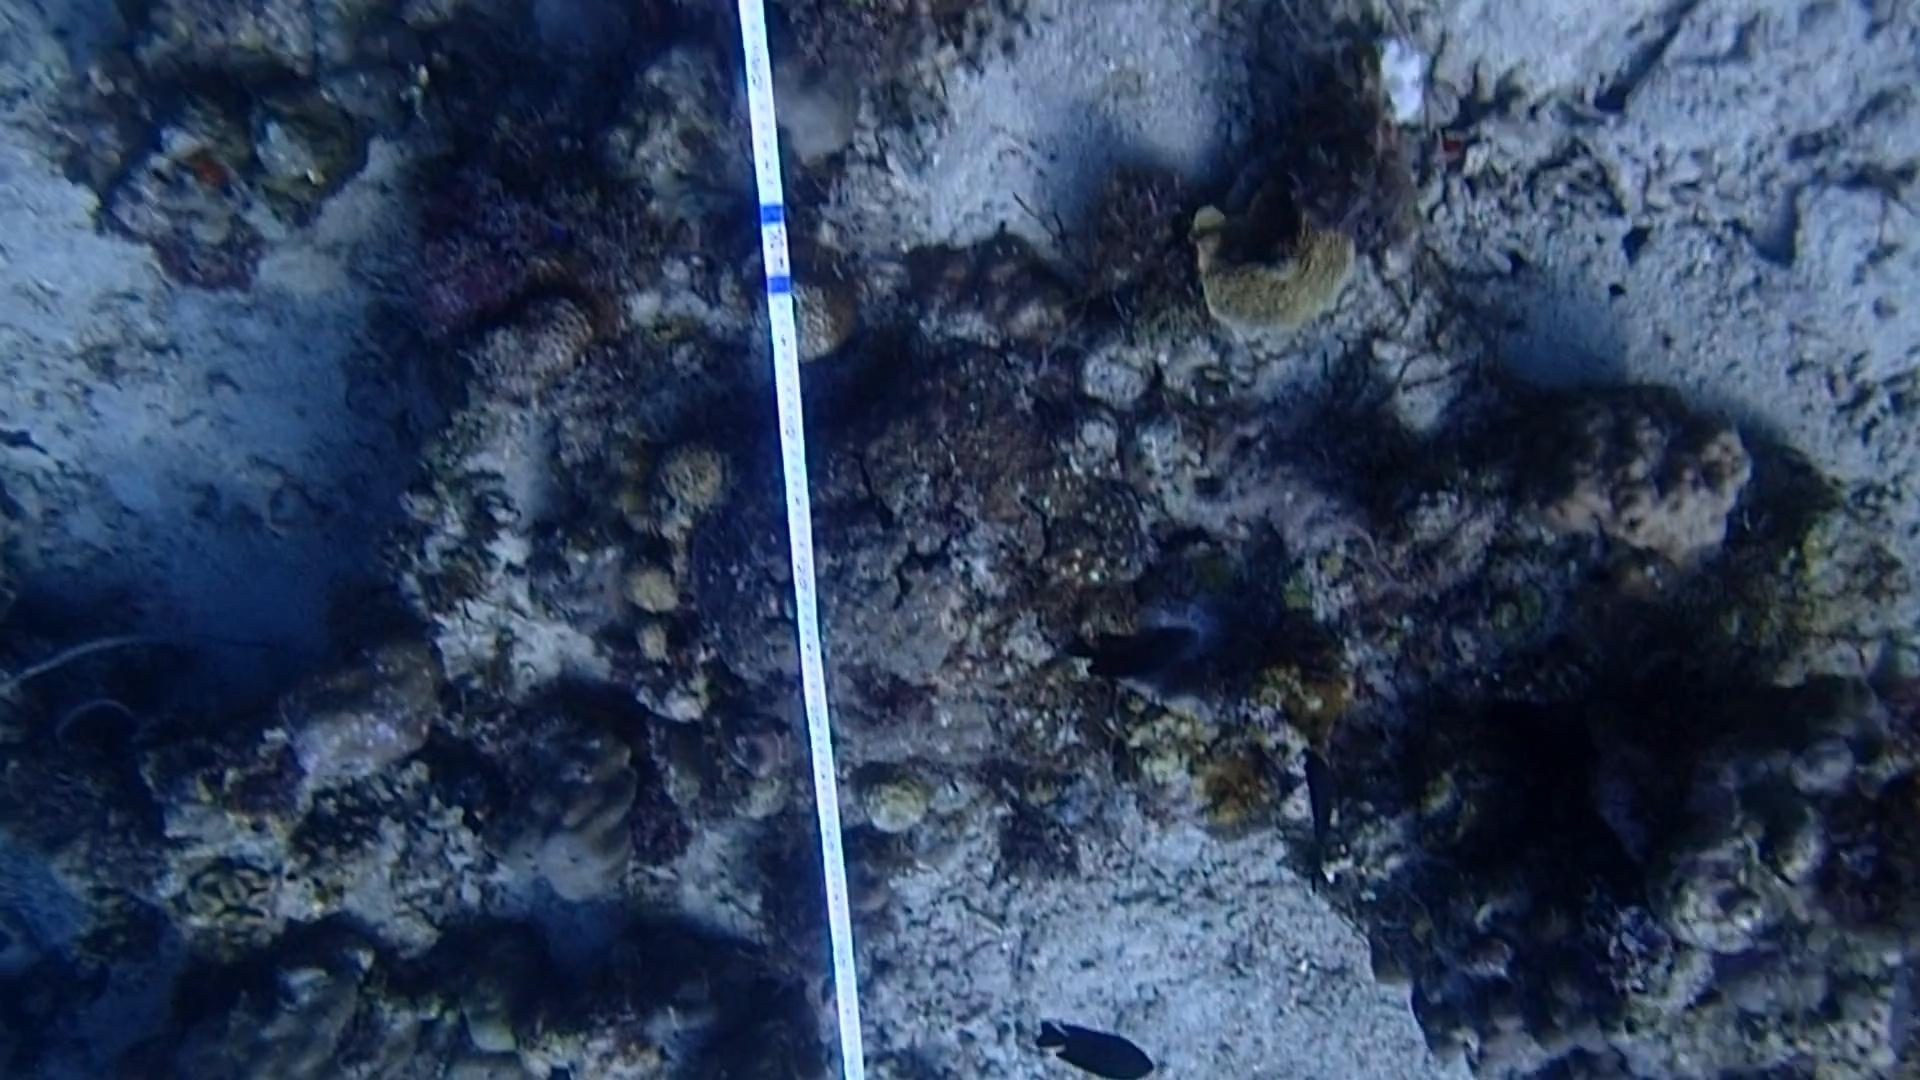Dark Fish: (1060, 612, 1212, 691), (1278, 749, 1360, 895), (1033, 1015, 1166, 1080)
